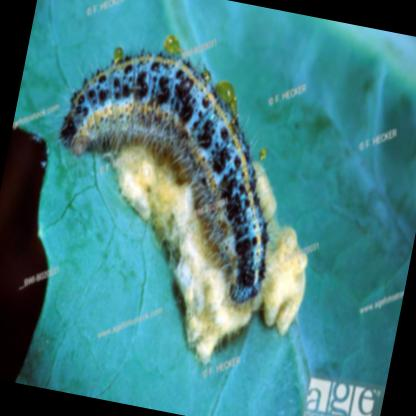pieris: (60, 48, 275, 311)
